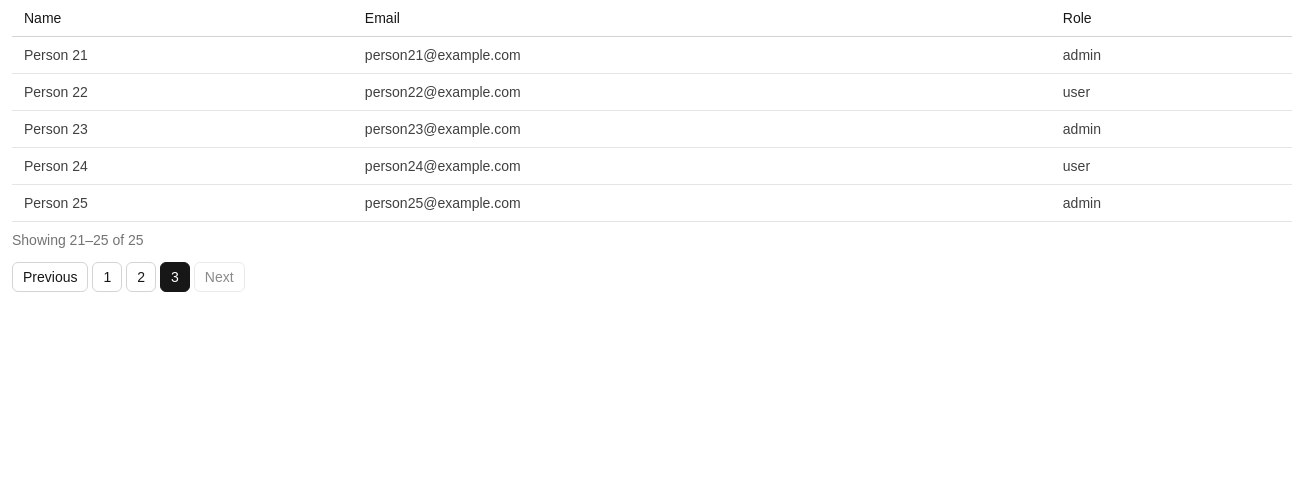
Test case: Table local mode › clamps an out-of-range seeded page to the last page and navigates from there
Expected: the text "Person 21" is shown, x1=12 y1=36 x2=353 y2=74
Expected: the message reads "Showing 21–25 of 25", x1=12 y1=232 x2=144 y2=248
Click the button "Previous" at (50, 277), box x1=12 y1=262 x2=88 y2=292
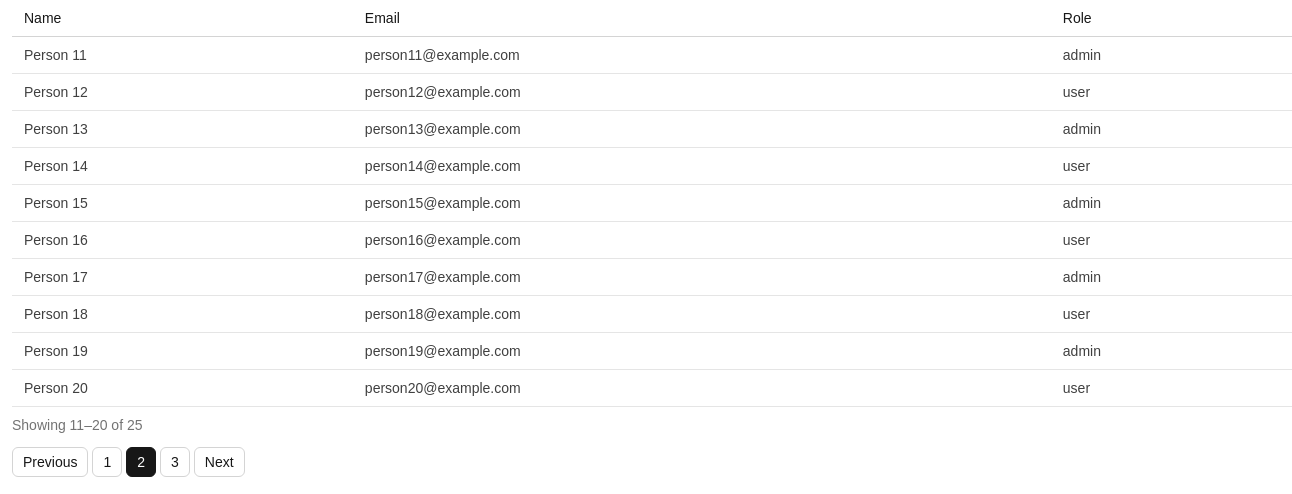
Result: the message reads "Showing 11–20 of 25" at x1=12 y1=417 x2=142 y2=433
Result: the text "Person 11" is shown at x1=12 y1=36 x2=353 y2=74
